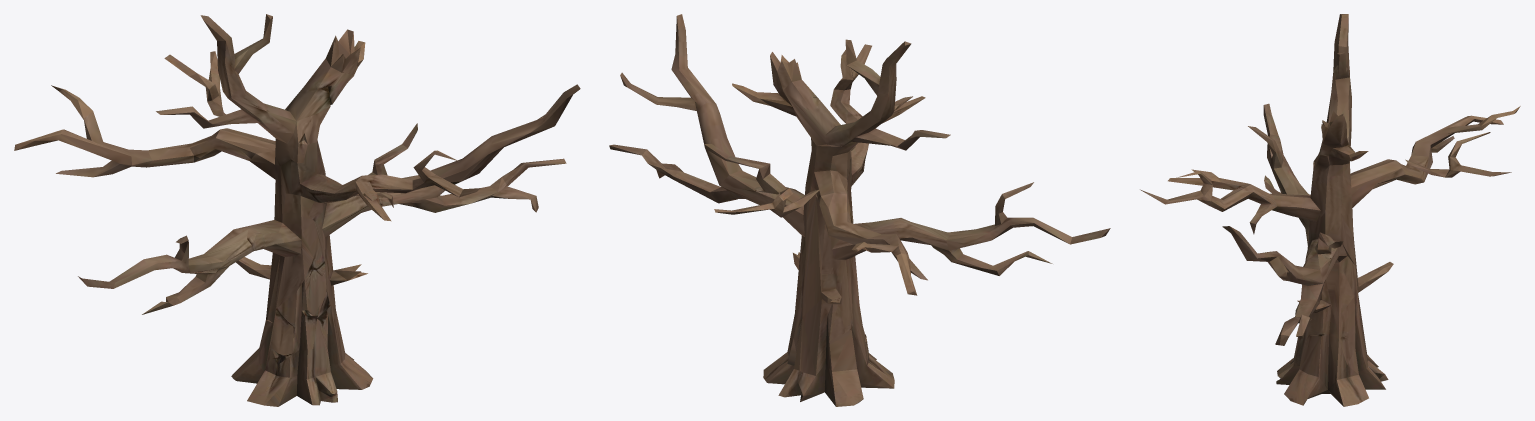
The model's file is bg_desert_bush_dry_1_lod0.glb.
3 views of the same model, side by side, from view 1: azimuth 30°, elevation 25°; view 2: azimuth 150°, elevation 25°; view 3: azimuth 270°, elevation 25° (orthographic). The views are drawn at different scales.
Visible parts, largest first — view 1: sway, body; view 2: sway, body; view 3: sway, body.
Boxes of the visible parts, <box> form: sway: <box>14,14,580,378</box>; body: <box>231,348,373,406</box>; sway: <box>609,14,1110,375</box>; body: <box>763,329,894,406</box>; sway: <box>1140,14,1520,389</box>; body: <box>1276,340,1388,406</box>.
Size of the model in its own units: 2.22 by 1.6 by 1.68.
1 material, 1 textured.
